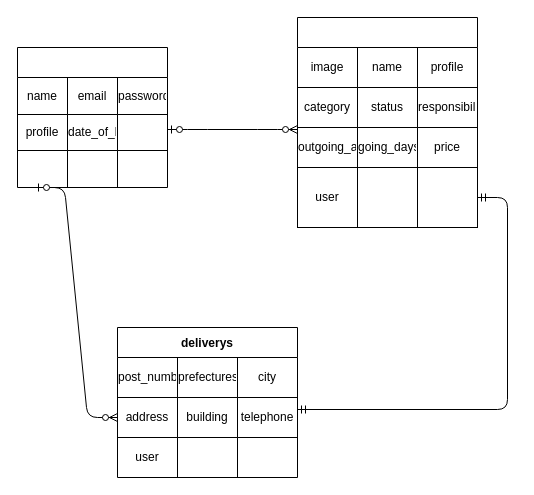
Some shapes in this 534 by 495 pixel diagram are drawn without their labels. The box of each missing label's shape, as (x1, y1, x2, y2) in pixels:
items: (296, 16, 478, 168)
users: (16, 46, 168, 188)
